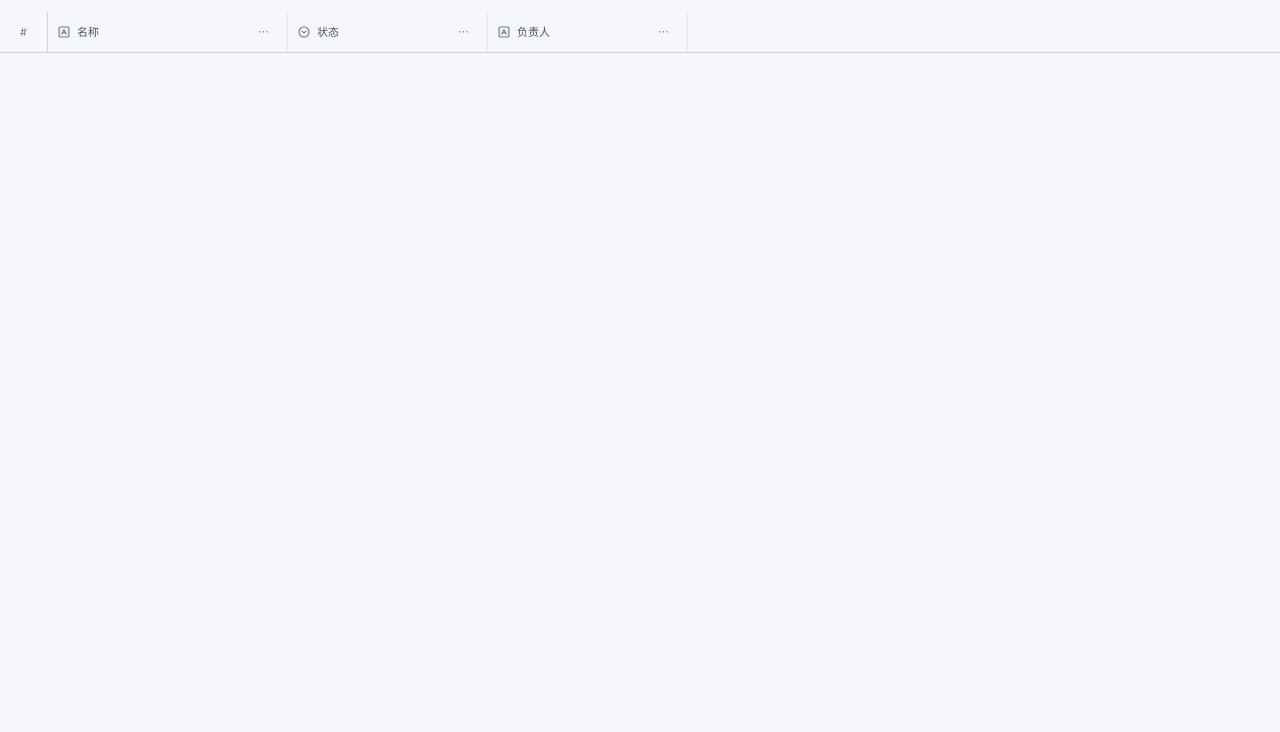
Test: GridHeader 冻结菜单 › 字段菜单在焦点移出或点击字段外部时收起
Click the button named "打开 状态 字段菜单" at (464, 32), box [458,24,469,40]
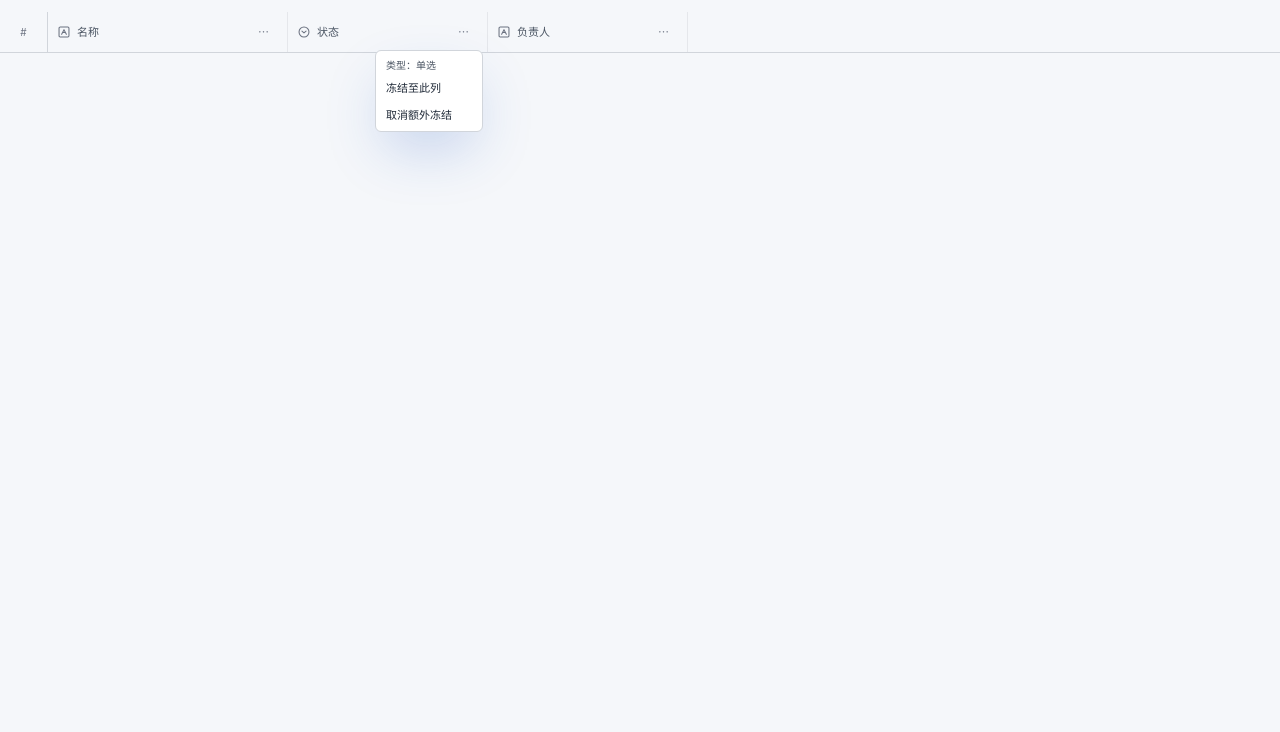
Expected: the menu is shown, [375,50,483,132]
Leave the button named "打开 状态 字段菜单", box [458,24,469,40]
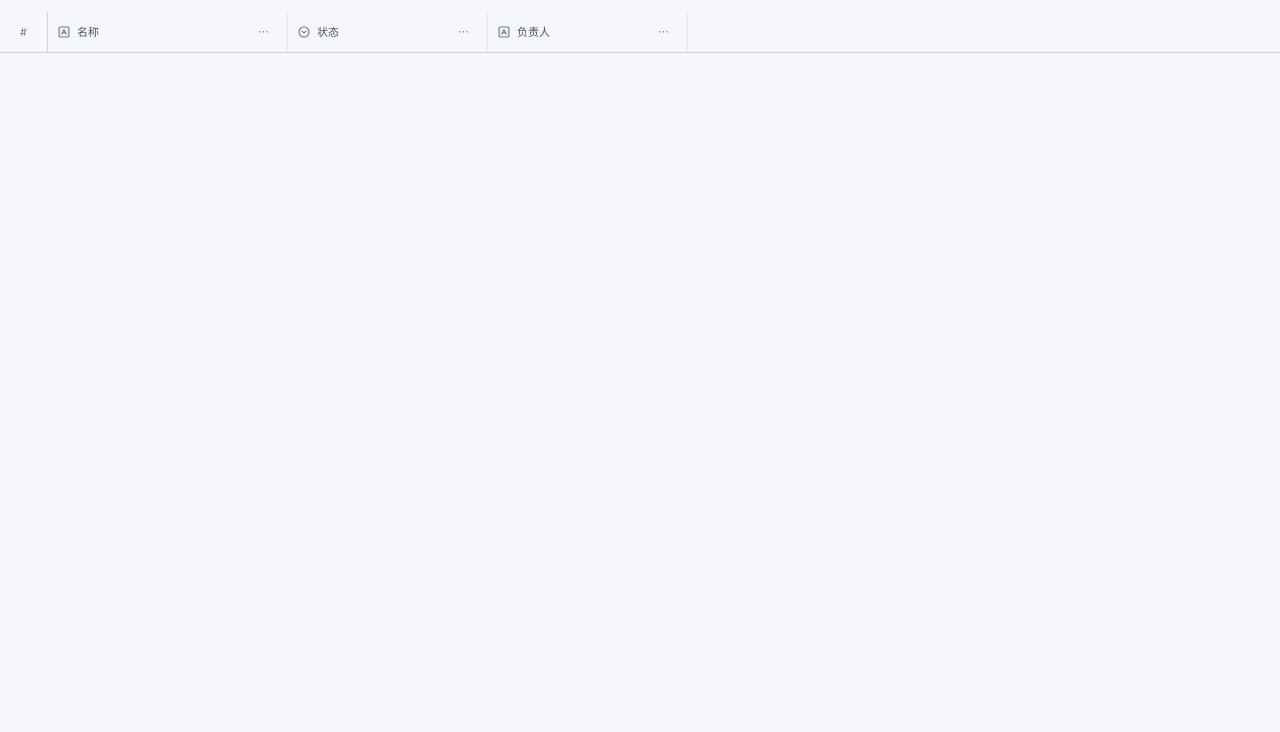
Expected: the menu is gone
Click the button named "打开 状态 字段菜单" at (464, 32), box [458,24,469,40]
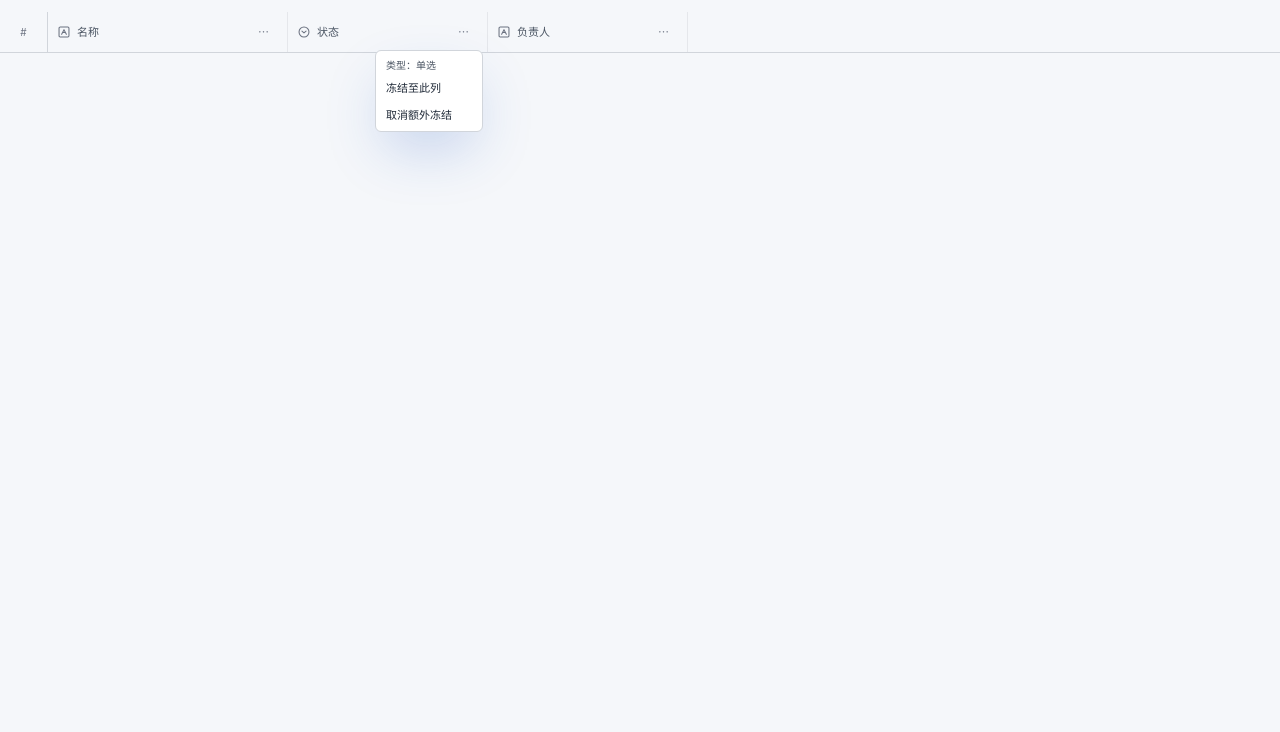
Expected: the menu is shown, [375,50,483,132]
Press the mouse on the element showing "# 名称 ⋯ 状态 ⋯ 类型：单选 冻结至此列 取消额外冻结 负责人 ⋯" at (640, 372), box [0,12,1279,731]
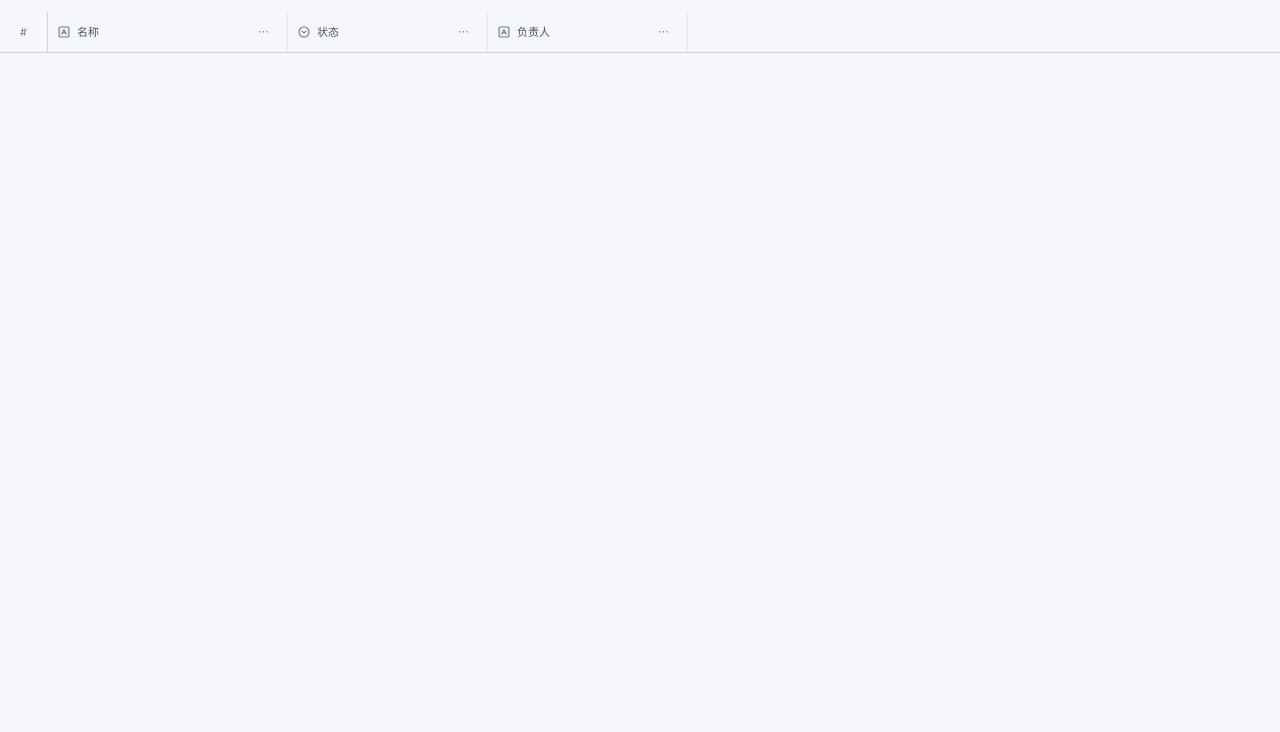
Expected: the menu is gone
